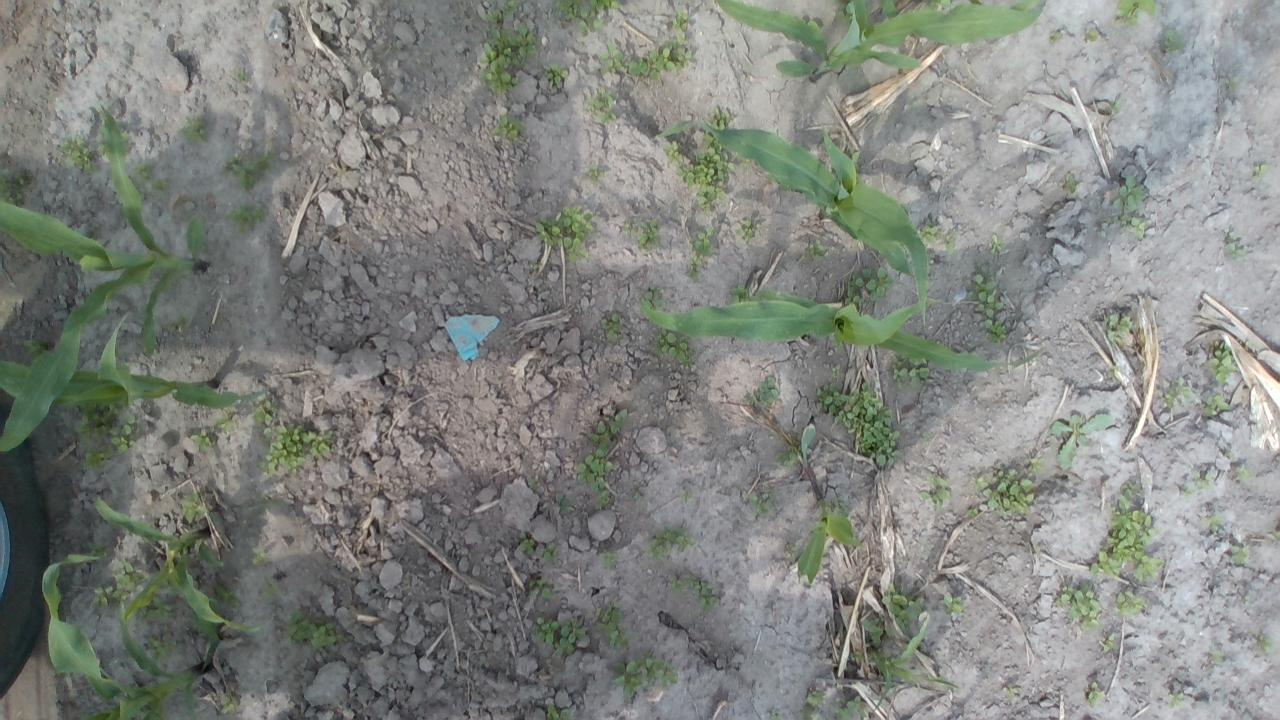Maize: (0, 106, 210, 454), (653, 118, 932, 330), (640, 287, 1040, 375), (714, 0, 1046, 86), (43, 554, 207, 720), (96, 494, 275, 640), (0, 308, 253, 410), (872, 619, 962, 712), (795, 500, 858, 586)
Weeds: (813, 380, 901, 468), (1090, 484, 1166, 583), (968, 456, 1045, 518), (72, 402, 138, 474), (676, 132, 736, 209), (477, 24, 539, 96), (598, 38, 691, 82), (534, 206, 597, 264), (1050, 413, 1110, 468), (574, 446, 616, 510), (255, 423, 306, 475), (613, 656, 679, 696), (287, 607, 348, 650), (533, 614, 589, 656), (881, 581, 924, 635), (1055, 582, 1101, 632), (552, 0, 620, 33), (1112, 178, 1147, 240), (846, 266, 894, 306), (594, 600, 632, 650), (967, 268, 1004, 318), (655, 325, 697, 369), (669, 572, 719, 608), (228, 152, 272, 191), (889, 349, 930, 390), (646, 524, 692, 560), (688, 226, 716, 282), (61, 136, 100, 175), (1208, 340, 1240, 384), (592, 407, 628, 446), (584, 86, 620, 124), (112, 559, 144, 601), (223, 205, 268, 233), (746, 376, 782, 410), (918, 476, 954, 510), (134, 596, 177, 624), (860, 614, 894, 648), (622, 219, 659, 250), (1116, 0, 1158, 27), (1101, 312, 1132, 348), (144, 636, 178, 668), (0, 169, 26, 206), (300, 429, 333, 458), (181, 490, 209, 523), (1163, 376, 1193, 406), (1181, 470, 1216, 495), (492, 114, 527, 139), (483, 0, 518, 24), (210, 584, 242, 610), (1202, 391, 1231, 419), (1115, 591, 1145, 618), (836, 696, 869, 720), (800, 424, 817, 466), (252, 392, 274, 424), (543, 61, 568, 89), (528, 576, 556, 601), (982, 318, 1008, 344), (601, 309, 623, 339), (183, 118, 208, 144), (670, 8, 690, 40), (90, 584, 114, 610), (709, 105, 733, 130), (1162, 30, 1186, 53), (643, 286, 665, 311), (773, 446, 801, 465), (750, 491, 771, 516), (21, 336, 44, 358), (197, 618, 220, 640), (1085, 682, 1106, 706), (831, 0, 852, 24), (944, 229, 962, 256), (1223, 236, 1247, 256), (736, 216, 756, 240), (132, 162, 152, 185), (546, 703, 573, 720), (989, 232, 1008, 256), (214, 413, 235, 434), (219, 694, 241, 714), (918, 222, 938, 244), (805, 687, 828, 706), (663, 140, 684, 160), (150, 177, 170, 197), (584, 163, 604, 183), (190, 431, 211, 450), (943, 593, 961, 615), (805, 240, 827, 258), (1204, 512, 1224, 531), (598, 549, 617, 569), (1231, 545, 1249, 566), (88, 542, 110, 559), (542, 543, 560, 563), (849, 148, 866, 169), (518, 533, 534, 555), (879, 0, 898, 18), (262, 582, 280, 601), (253, 494, 272, 512), (730, 286, 750, 303), (95, 126, 106, 156), (1166, 692, 1186, 708), (833, 494, 849, 514), (174, 311, 192, 328), (1251, 164, 1268, 182), (554, 494, 572, 511), (800, 16, 821, 30), (1208, 648, 1224, 666), (1102, 633, 1117, 652), (1233, 466, 1251, 481), (250, 548, 264, 566), (1064, 174, 1078, 192), (121, 131, 132, 152), (928, 0, 951, 10), (801, 707, 818, 720), (1260, 636, 1272, 654), (1222, 77, 1237, 90), (234, 68, 250, 80), (770, 708, 786, 720), (920, 431, 929, 448), (1086, 31, 1099, 42), (1048, 31, 1062, 41), (680, 494, 691, 505), (1111, 100, 1122, 111), (830, 367, 841, 378), (1106, 365, 1116, 377), (870, 617, 880, 629), (1006, 688, 1018, 698), (1223, 449, 1233, 460), (966, 0, 982, 6), (526, 479, 535, 487)
